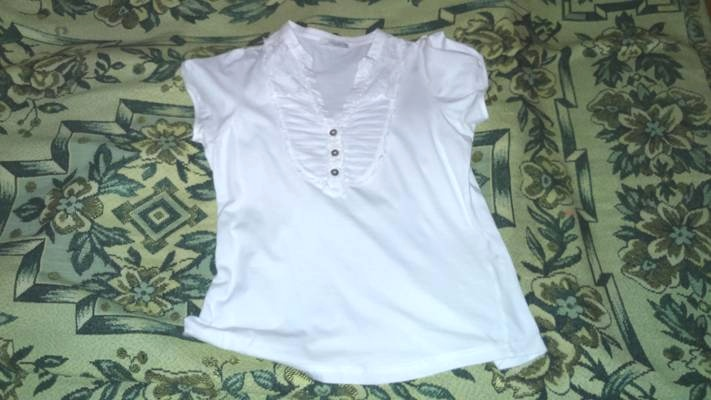Blouse: (167, 11, 554, 376)
